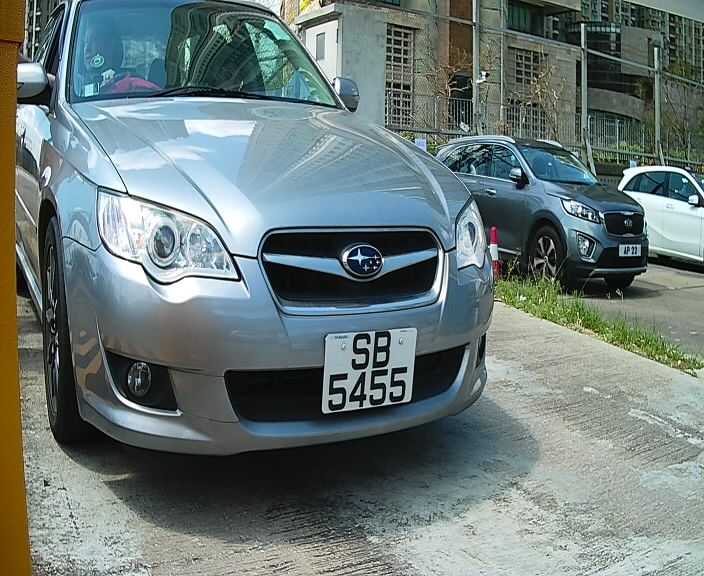Car: (2, 2, 519, 476)
License Plate: (311, 321, 427, 424)
